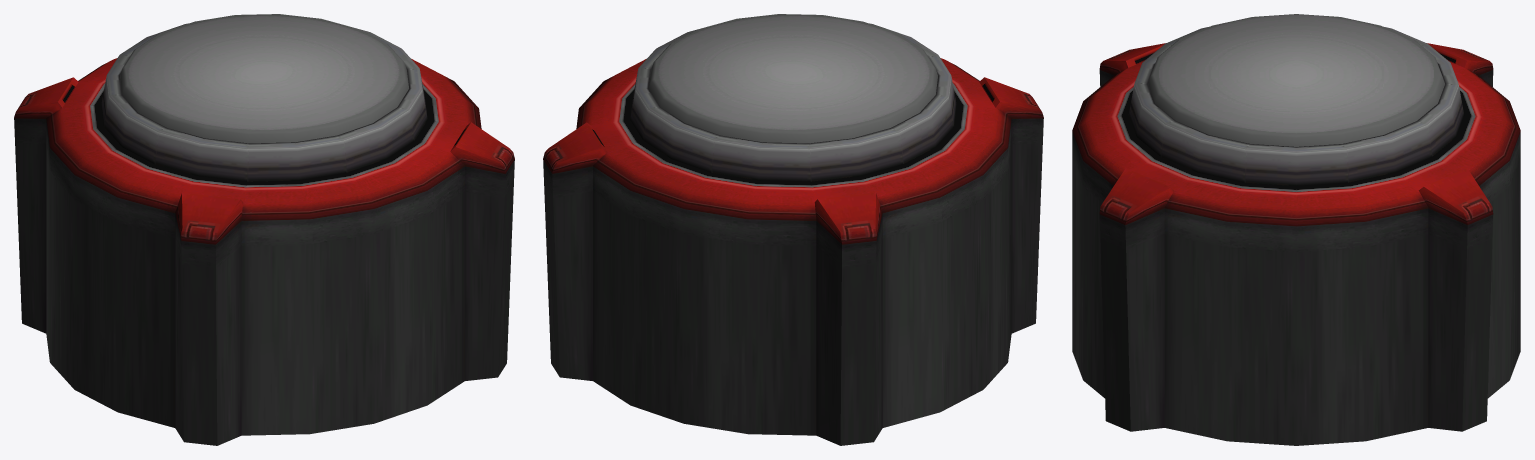
The model's file is cmn_obj_switch_HD.dae.
3 views of the same model, side by side, from view 1: azimuth 30°, elevation 25°; view 2: azimuth 150°, elevation 25°; view 3: azimuth 270°, elevation 25° (orthographic). The views are drawn at different scales.
Visible parts, largest first — view 1: cmn_obj_switch_HD_1; view 2: cmn_obj_switch_HD_1; view 3: cmn_obj_switch_HD_1.
Boxes of the visible parts, left/top/right/bottom form: cmn_obj_switch_HD_1: left=14, top=14, right=514, bottom=445; cmn_obj_switch_HD_1: left=543, top=14, right=1043, bottom=445; cmn_obj_switch_HD_1: left=1072, top=14, right=1520, bottom=445.
Size of the model in its own units: 2 by 2 by 1.36.
3 materials, 3 textured.
